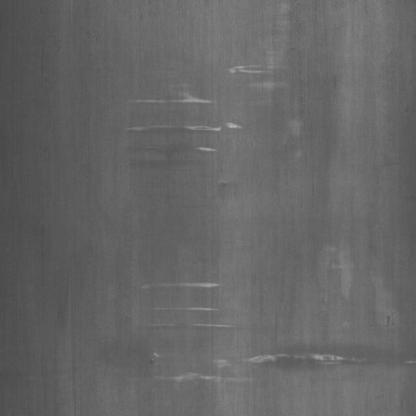waist_folding: (66, 72, 321, 406)
